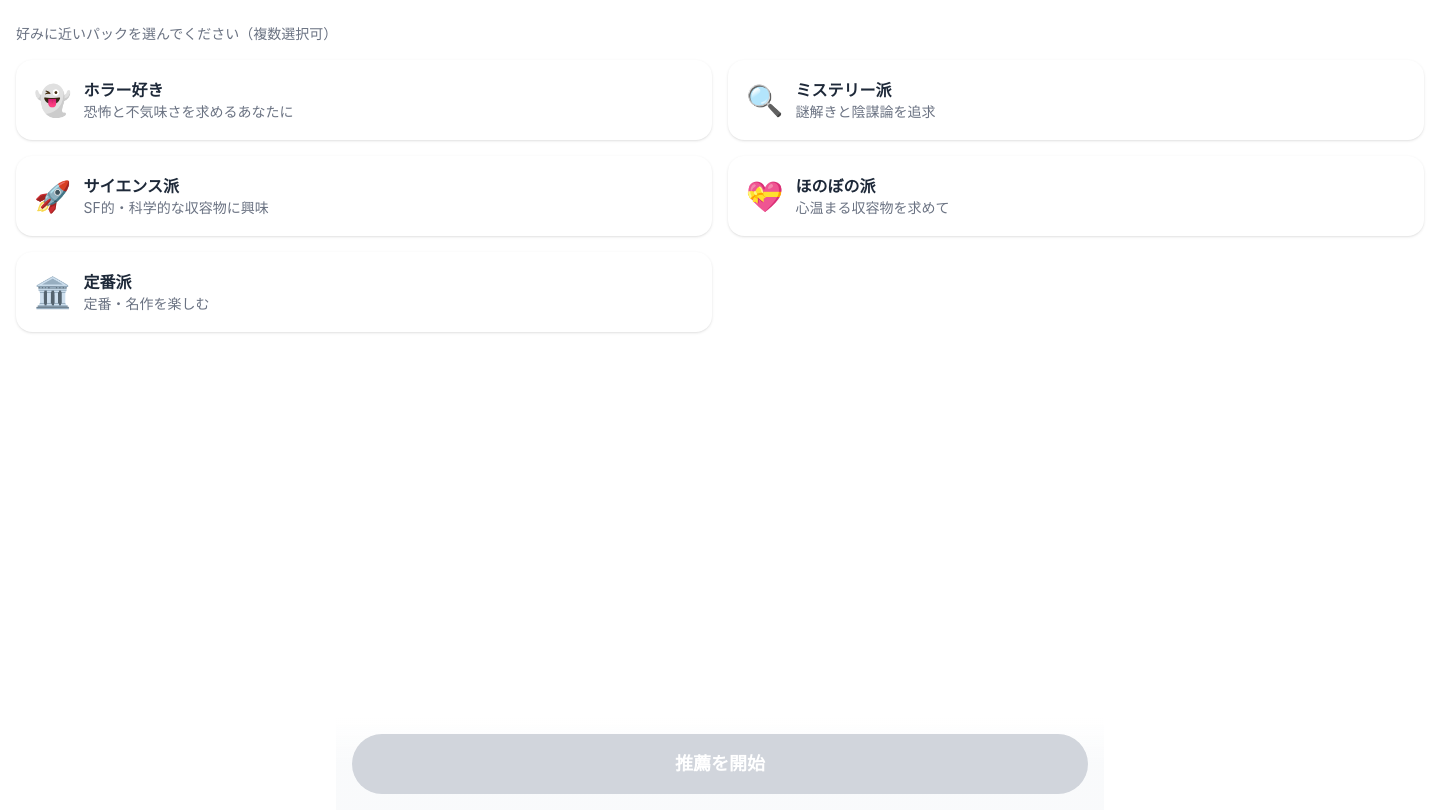
Test case: PackSelector › AC-2: パック選択（複数選択対応） › パッククリックで選択状態になりハイライト表示される
The width and height of the screenshot is (1440, 810).
Expected: the heading "ホラー好き" is shown, x1=83 y1=80 x2=163 y2=100
Click the button "👻 ホラー好き 恐怖と不気味さを求めるあなたに".
click(53, 100)  # box x1=16 y1=60 x2=712 y2=140
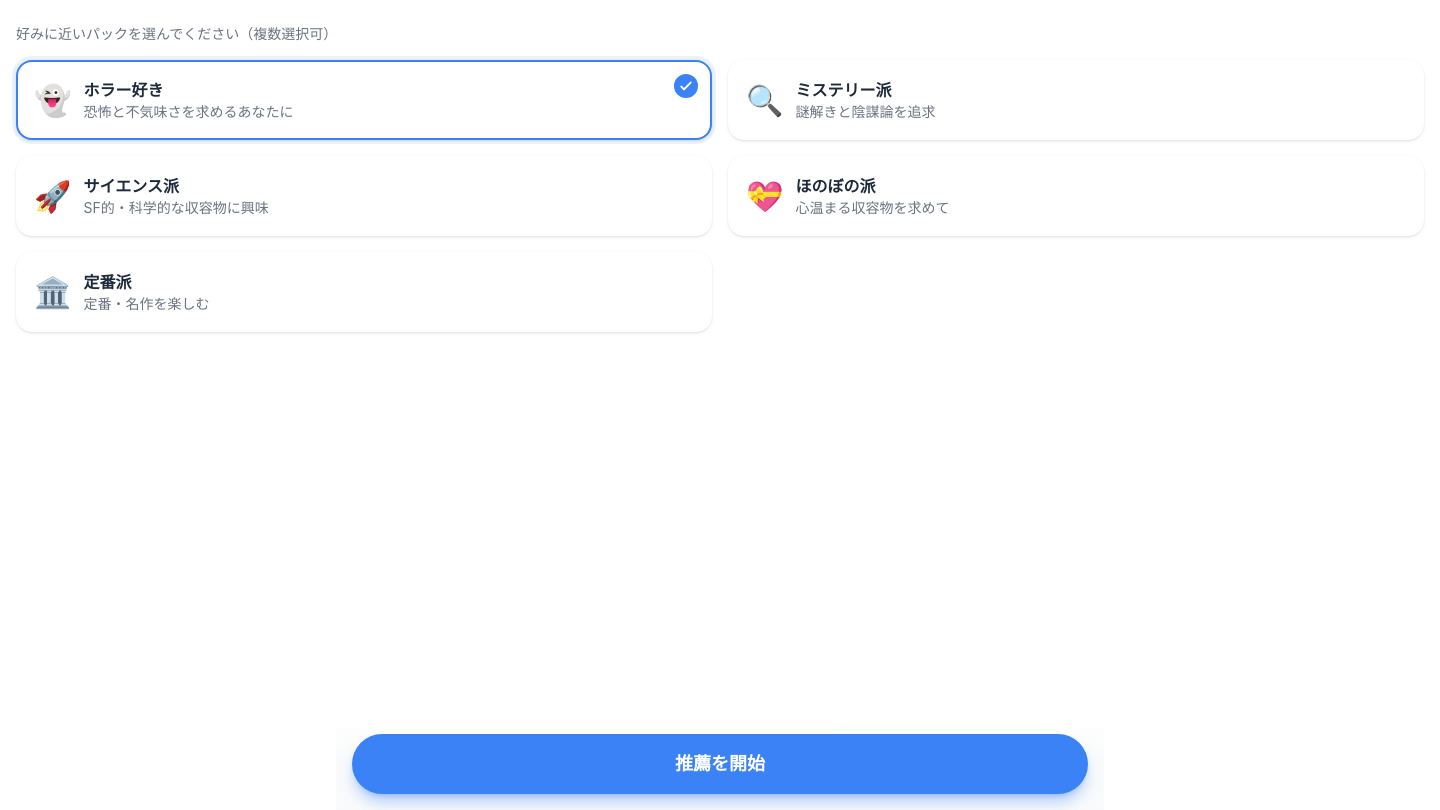
Expected: the element with test id "pack-check" is shown, x1=674 y1=74 x2=698 y2=98
